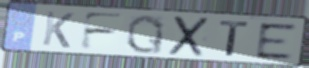E: (255, 22, 299, 60)
F: (77, 10, 127, 52)
K: (40, 9, 76, 50)
Q: (124, 13, 166, 55)
T: (218, 20, 252, 58)
X: (166, 15, 212, 59)
